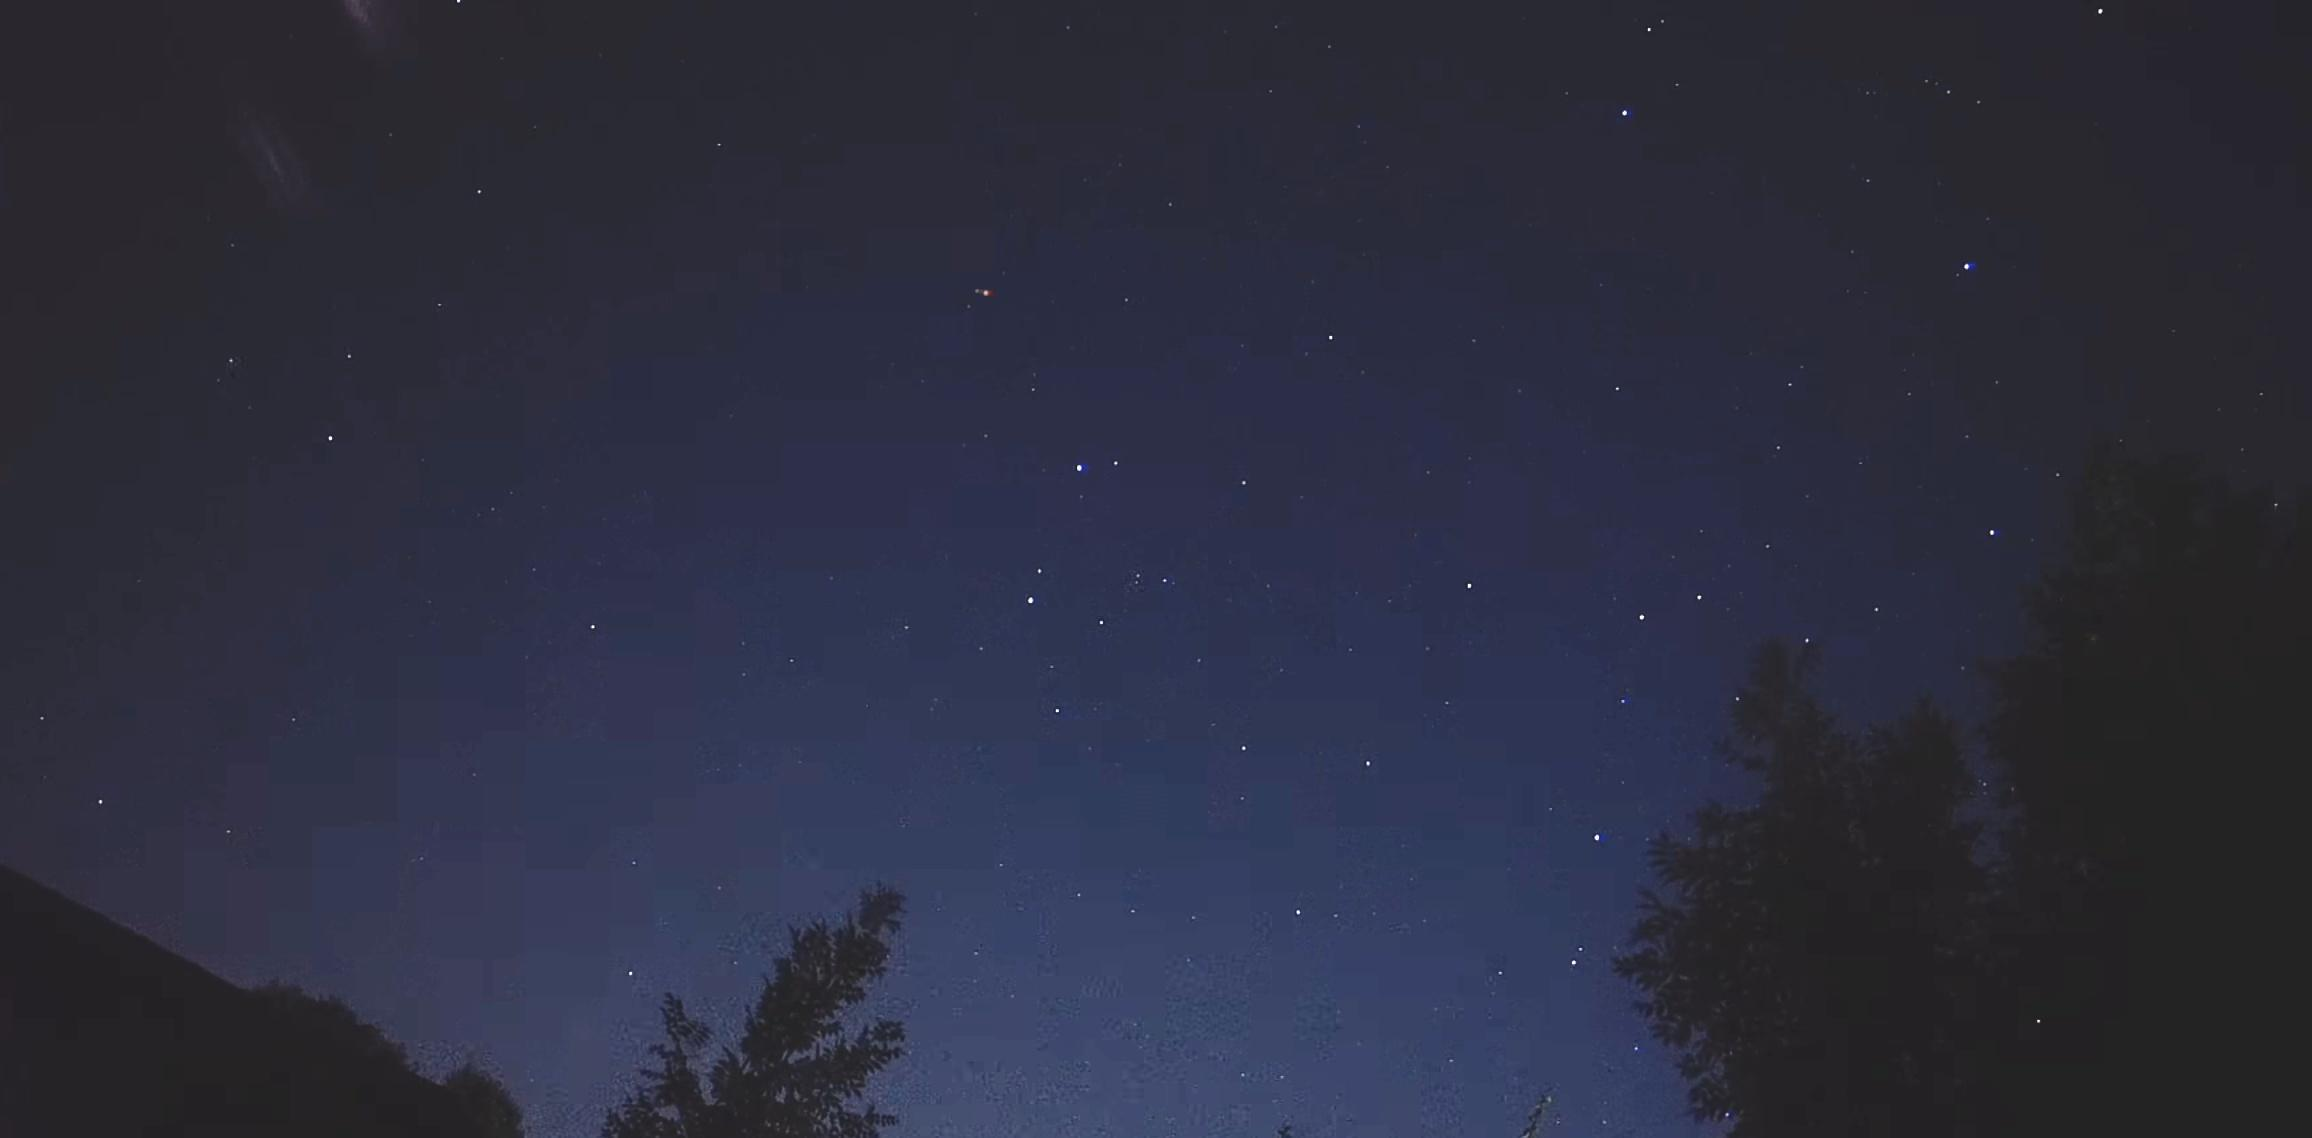Plane: (963, 283, 1016, 308)
